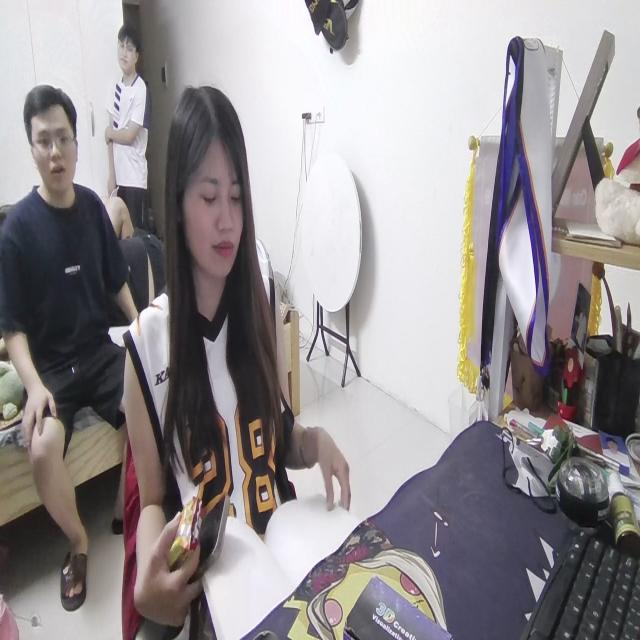book: (198, 482, 360, 640)
extra_person: (0, 82, 140, 614), (102, 28, 154, 255)
phone: (199, 489, 228, 575)
student: (119, 83, 354, 622)
